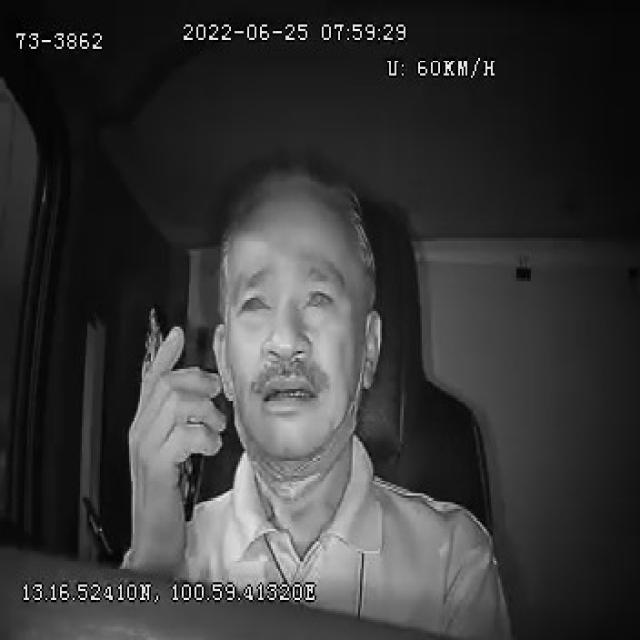phone: (140, 301, 208, 526)
